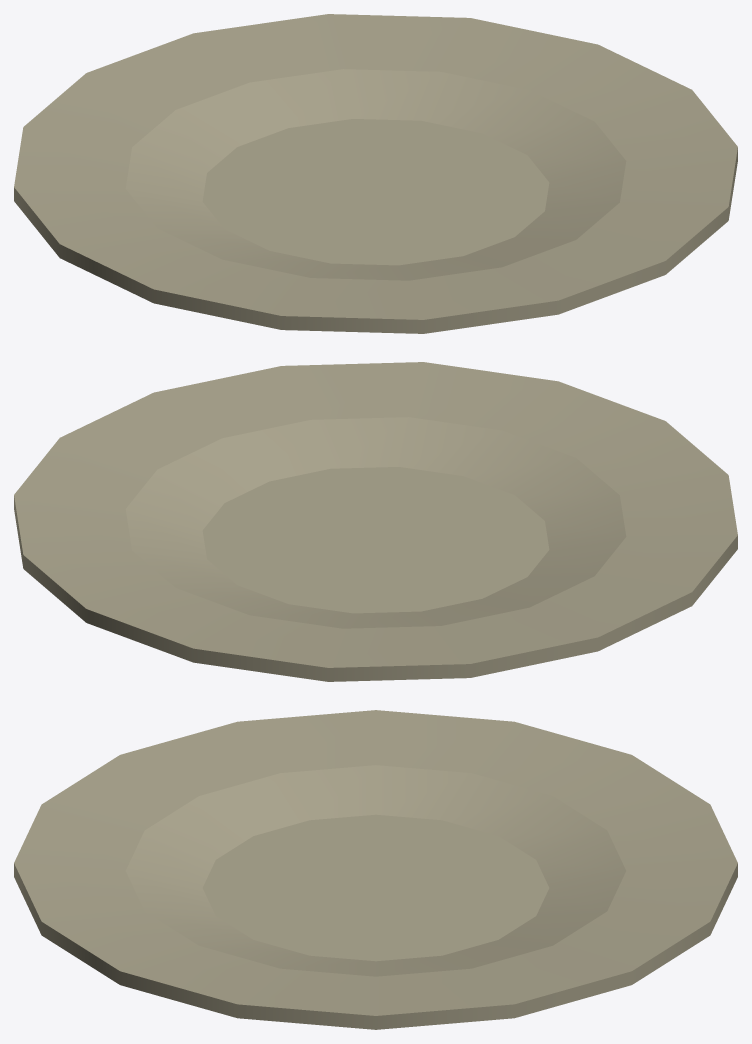
Rendered from PS_Plate01.fbx.
3 renders of one model, top to bottom at view 1: azimuth 30°, elevation 25°; view 2: azimuth 150°, elevation 25°; view 3: azimuth 270°, elevation 25°, orthographic.
Parts seen in each view (by area): view 1: PS_Plate01; view 2: PS_Plate01; view 3: PS_Plate01.
Part boxes in pixels (x1,y1,x2,y2): PS_Plate01: (14, 14, 737, 333); PS_Plate01: (14, 362, 737, 681); PS_Plate01: (14, 710, 737, 1029).
Bounding box in the file's own units: 0.7294 × 0.0784 × 0.7294.
